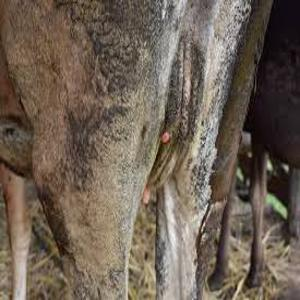lumpy skin diesease: (0, 0, 299, 299), (0, 0, 34, 299)
